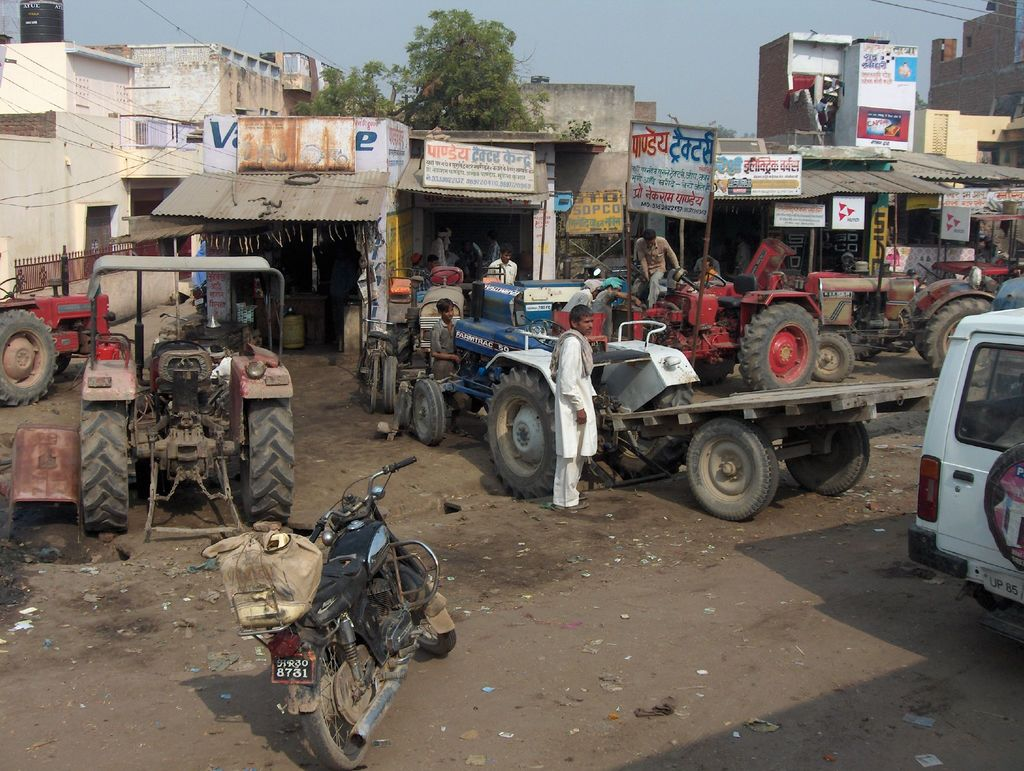car: (874, 301, 1024, 645)
